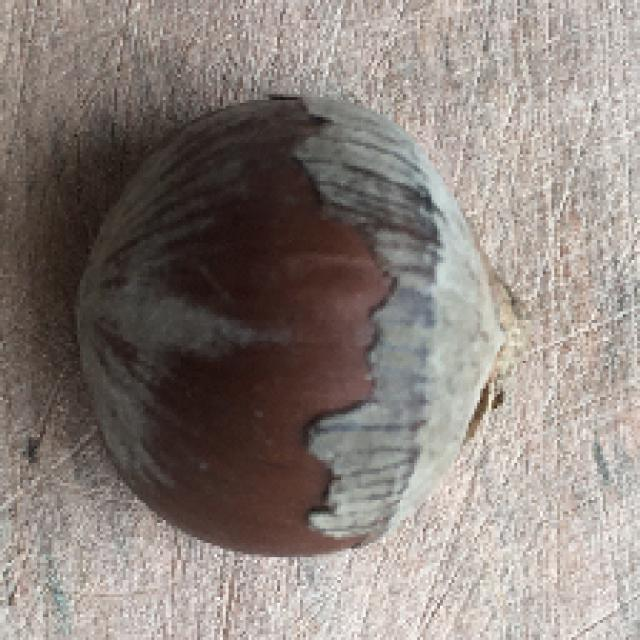damagedHazelnut: (64, 82, 516, 561)
